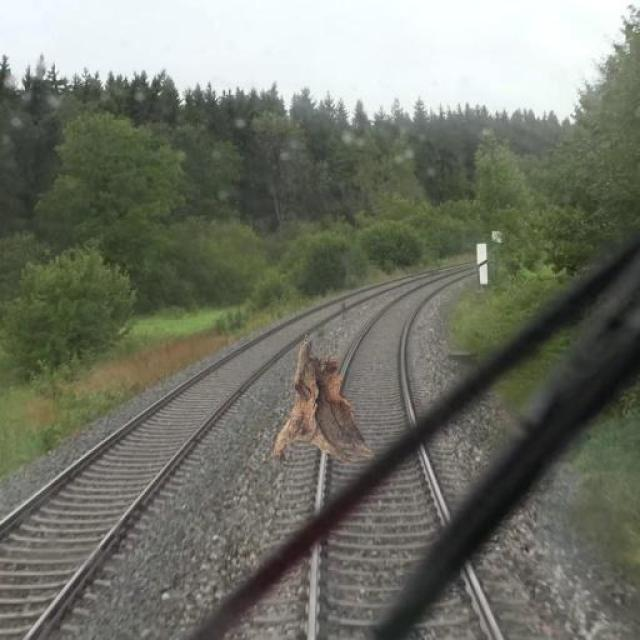Branches: (265, 344, 378, 471)
